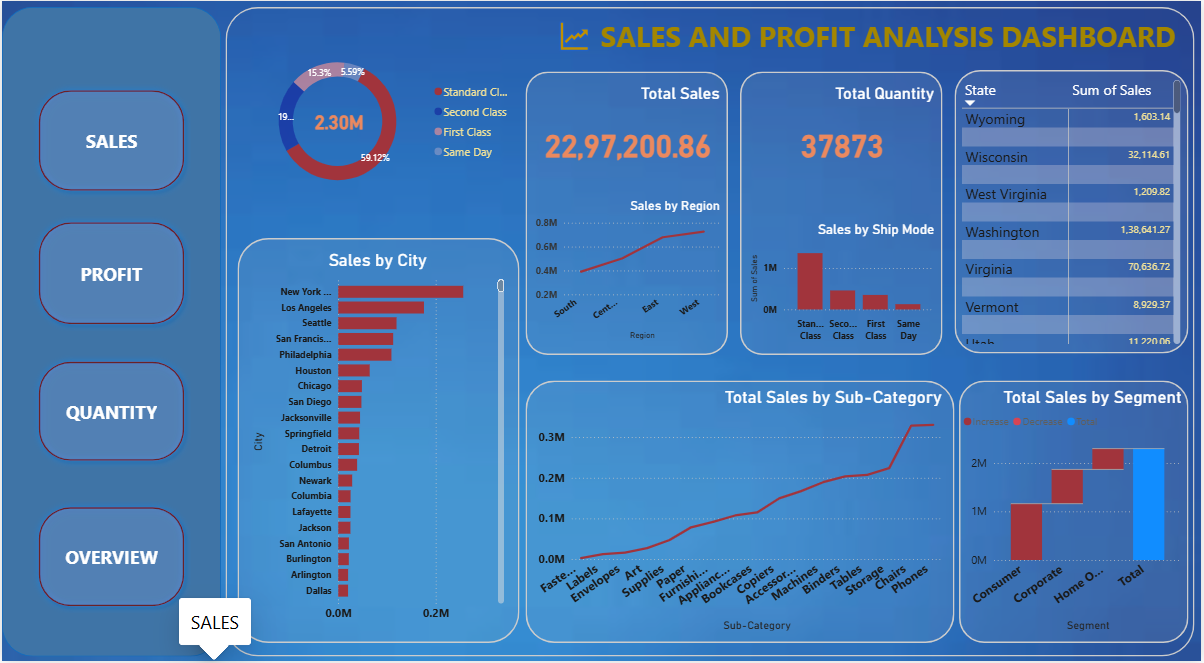

This screenshot's page, from the dashboard's own definition file:
{"tool":"powerbi","page":{"name":"SALES","canvas":[1600,880],"ordinal":0},"visuals":[{"type":"shape","box":[0,8,292,866],"z":0},{"type":"shape","box":[298,8,1292,866],"z":1000},{"type":"shape","box":[314,316,376,540],"z":2000},{"type":"shape","box":[698,506,572,350],"z":3000},{"type":"shape","box":[1276,506,306,350],"z":4000},{"type":"shape","box":[698,94,270,378],"z":5000},{"type":"shape","box":[1270,92,312,378],"z":6000},{"type":"shape","box":[984,94,270,378],"z":7000},{"type":"textbox","box":[690,16,880,62],"z":8000},{"type":"lineChart","title":"Sales by Region","fields":{"Y":["Sum(Sheet1.Sales)"],"Category":["Sheet1.Region"]},"box":[706,262,256,194],"z":9000},{"type":"card","title":"Total Sales","fields":{"Values":["Sheet1.Total Sales"]},"box":[706,110,256,134],"z":10000},{"type":"clusteredBarChart","title":"Sales by City","fields":{"Y":["Sum(Sheet1.Sales)"],"Category":["Sheet1.City"]},"box":[328,332,346,504],"z":11000},{"type":"lineChart","title":"Total Sales by Sub-Category","fields":{"Y":["Sum(Sheet1.Sales)"],"Category":["Sheet1.Sub-Category"]},"box":[710,514,548,330],"z":12000},{"type":"waterfallChart","title":"Total Sales by Segment","fields":{"Y":["Sum(Sheet1.Sales)"],"Category":["Sheet1.Segment"]},"box":[1276,514,302,330],"z":13000},{"type":"pivotTable","title":"Total Sales by Segment","fields":{"Rows":["Sheet1.State"],"Values":["Sum(Sheet1.Sales)"]},"box":[1274,100,302,362],"z":14000},{"type":"card","title":"Total Quantity","fields":{"Values":["Sheet1.Total Quantity"]},"box":[992,110,256,134],"z":15000},{"type":"columnChart","title":"Sales by Ship Mode","fields":{"Category":["Sheet1.Ship Mode"],"Y":["Sum(Sheet1.Sales)"]},"box":[992,294,256,168],"z":16000},{"type":"donutChart","title":"Sales by Ship Mode","fields":{"Category":["Sheet1.Ship Mode"],"Y":["Sum(Sheet1.Sales)"]},"box":[314,16,376,288],"z":17000},{"type":"card","title":"Total Sales","fields":{"Values":["Sheet1.Total Sales"]},"box":[396,124,106,72],"z":18000},{"type":"shape","box":[40,110,212,152],"z":19000},{"type":"shape","box":[40,286,212,154],"z":20000},{"type":"shape","box":[40,472,212,150],"z":21000},{"type":"shape","box":[40,666,212,150],"z":22000},{"type":"image","title":"Total Sales","box":[726,18,74,58],"z":23000}]}

Visuals, with their boxes in screenshot pixels (x1, y1, x2, y2), scaled from the page's 1600x880 canvas onto the 1204x663 screenshot:
shape: (left=0, top=6, right=220, bottom=658)
shape: (left=224, top=6, right=1196, bottom=658)
shape: (left=236, top=238, right=519, bottom=645)
shape: (left=525, top=381, right=956, bottom=645)
shape: (left=960, top=381, right=1190, bottom=645)
shape: (left=525, top=71, right=728, bottom=356)
shape: (left=956, top=69, right=1190, bottom=354)
shape: (left=740, top=71, right=944, bottom=356)
textbox: (left=519, top=12, right=1181, bottom=59)
"Sales by Region" lineChart: (left=531, top=197, right=724, bottom=344)
"Total Sales" card: (left=531, top=83, right=724, bottom=184)
"Sales by City" clusteredBarChart: (left=247, top=250, right=507, bottom=630)
"Total Sales by Sub-Category" lineChart: (left=534, top=387, right=947, bottom=636)
"Total Sales by Segment" waterfallChart: (left=960, top=387, right=1187, bottom=636)
"Total Sales by Segment" pivotTable: (left=959, top=75, right=1186, bottom=348)
"Total Quantity" card: (left=746, top=83, right=939, bottom=184)
"Sales by Ship Mode" columnChart: (left=746, top=222, right=939, bottom=348)
"Sales by Ship Mode" donutChart: (left=236, top=12, right=519, bottom=229)
"Total Sales" card: (left=298, top=93, right=378, bottom=148)
shape: (left=30, top=83, right=190, bottom=197)
shape: (left=30, top=215, right=190, bottom=332)
shape: (left=30, top=356, right=190, bottom=469)
shape: (left=30, top=502, right=190, bottom=615)
"Total Sales" image: (left=546, top=14, right=602, bottom=57)
